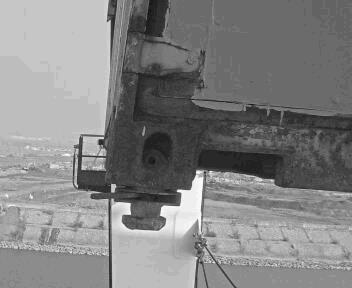twist_lock_1: (105, 184, 185, 236)
